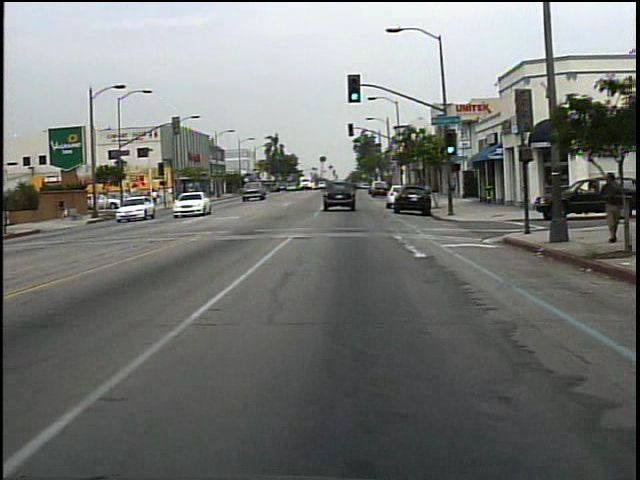person: (593, 166, 620, 248), (55, 194, 74, 222), (149, 185, 165, 210)
